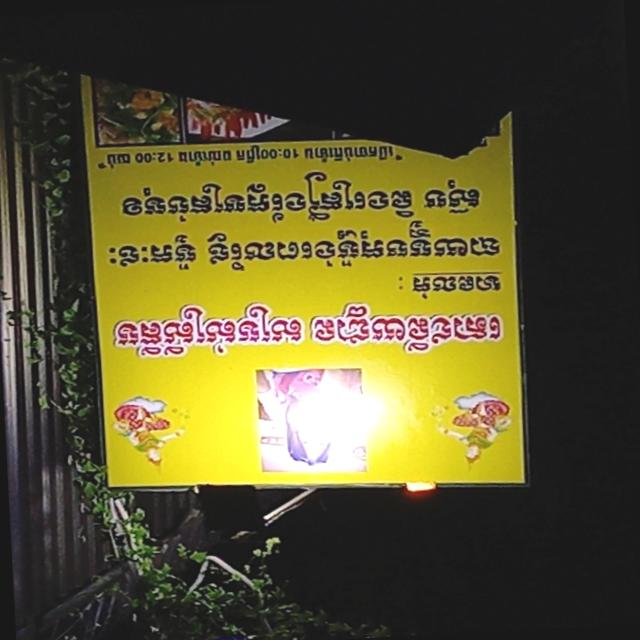1: (105, 220, 503, 275), (108, 172, 487, 228), (113, 304, 505, 357)
109: (98, 143, 400, 172)
Yolov11kh: (411, 273, 503, 303)
